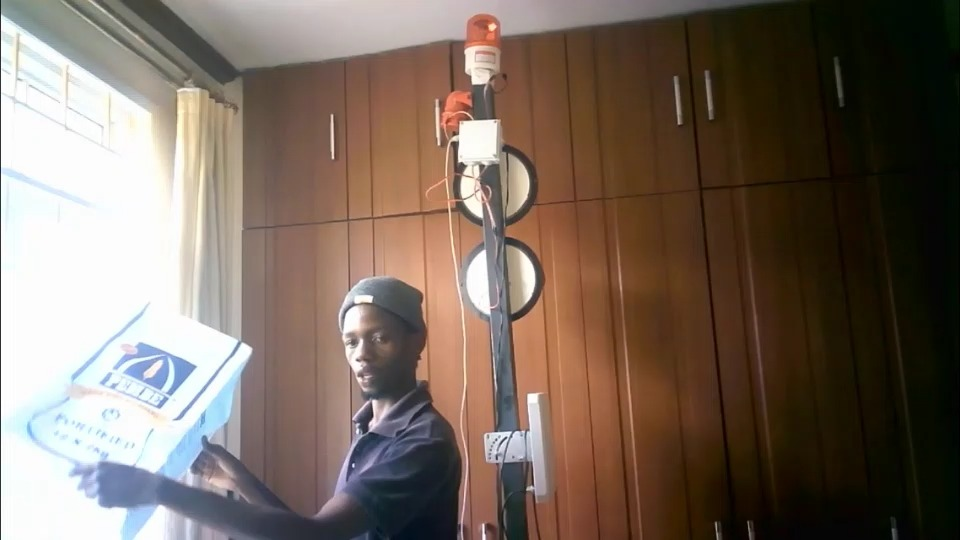wheat_flour_blue_label: (30, 309, 245, 535)
